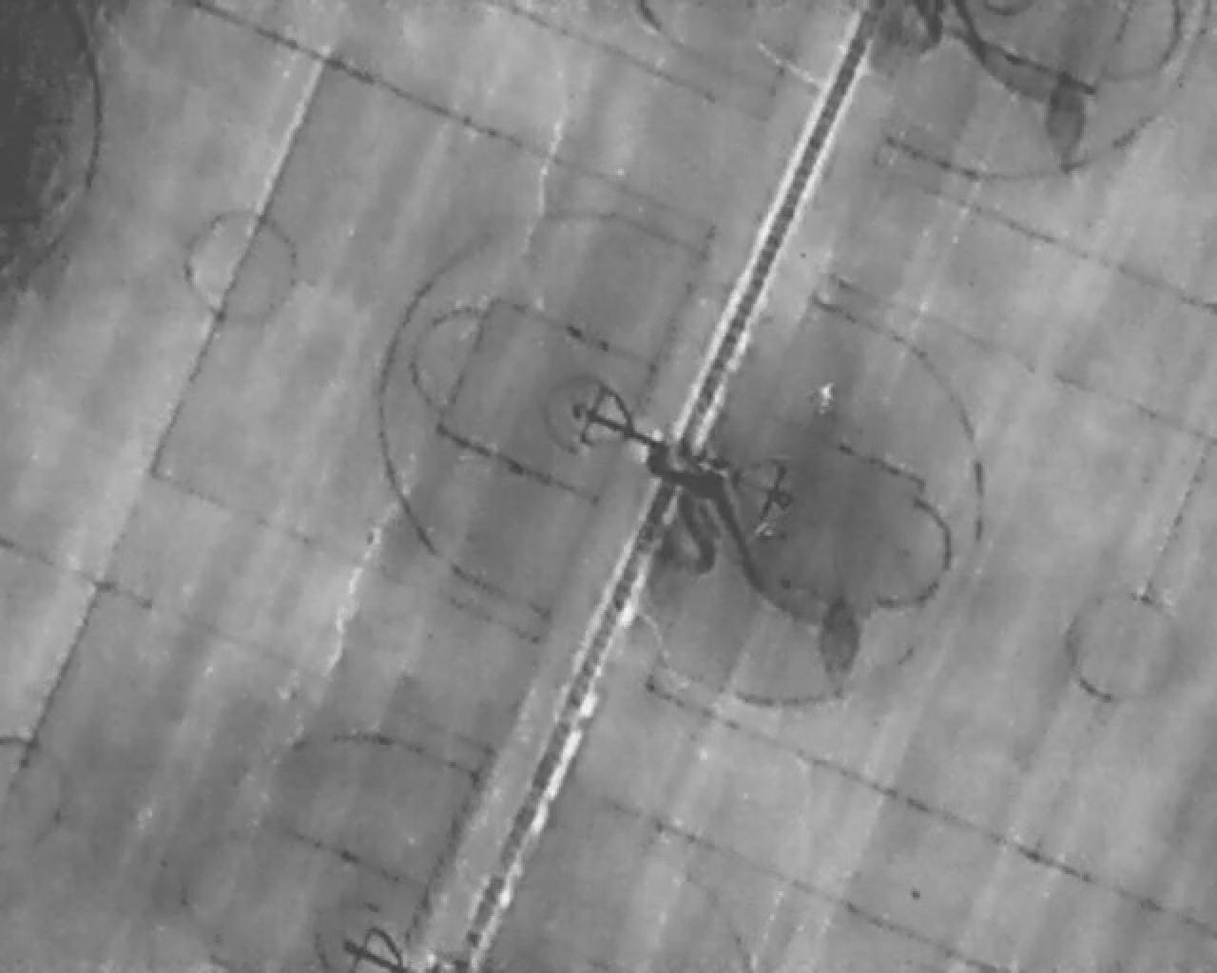person: (815, 377, 836, 419)
